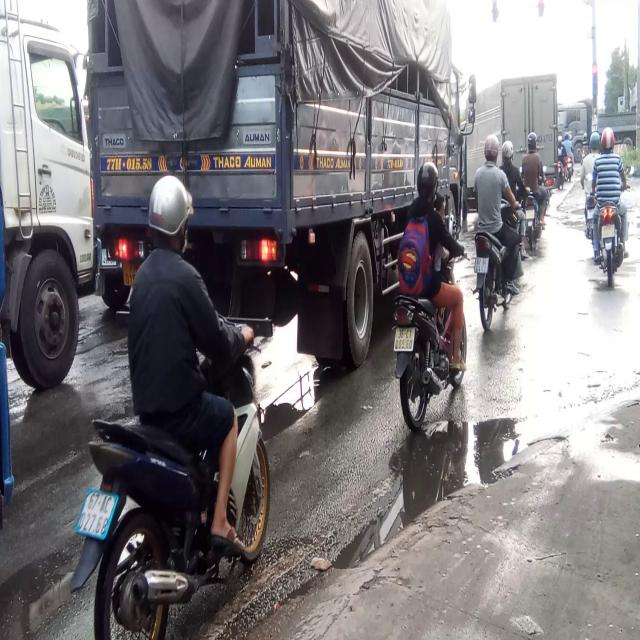bien_trang: (74, 482, 119, 540), (392, 325, 415, 352)
